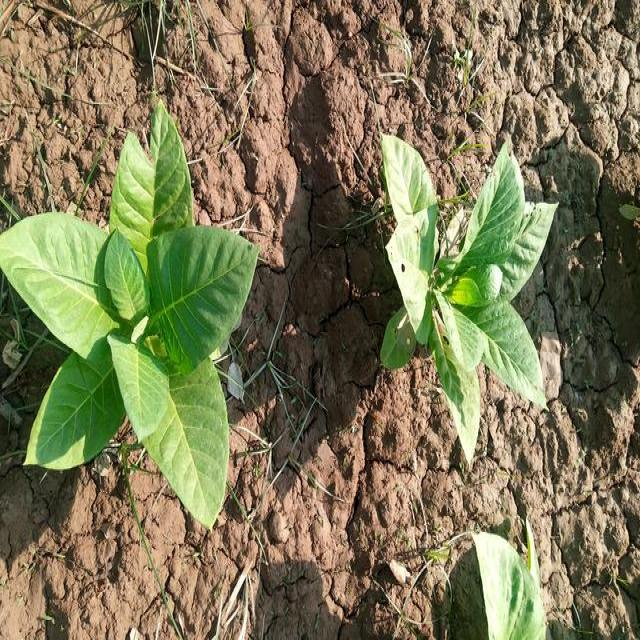crop: (5, 116, 256, 517), (372, 132, 567, 446), (470, 528, 544, 640)
